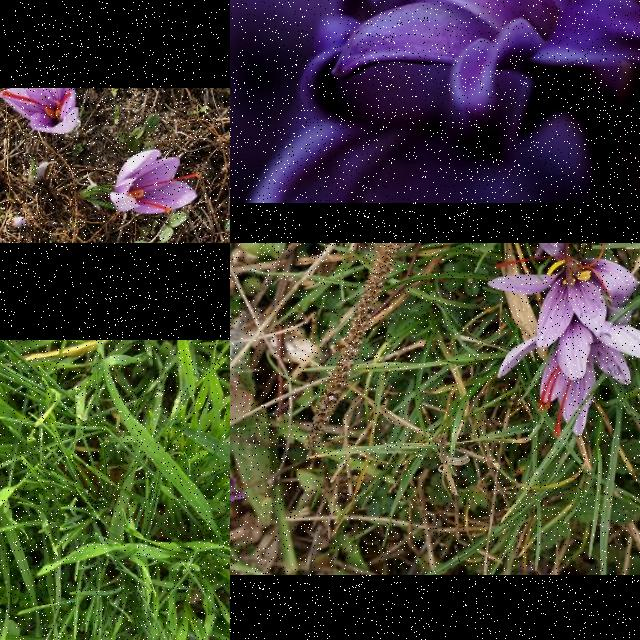flower: (110, 148, 202, 216), (0, 88, 78, 135)
overlap: (488, 243, 640, 437)
